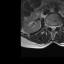CCS_normal: (52, 24, 54, 32)
LFS_normal: (56, 23, 58, 29)
LLS_normal: (54, 24, 56, 30)
RFS_normal: (48, 23, 50, 29)
RLS_normal: (50, 23, 52, 30)
